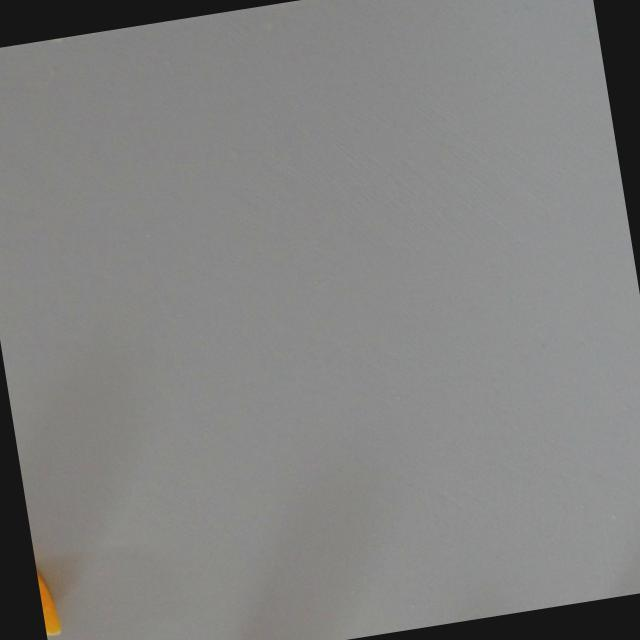pelicula: (33, 553, 64, 640)
